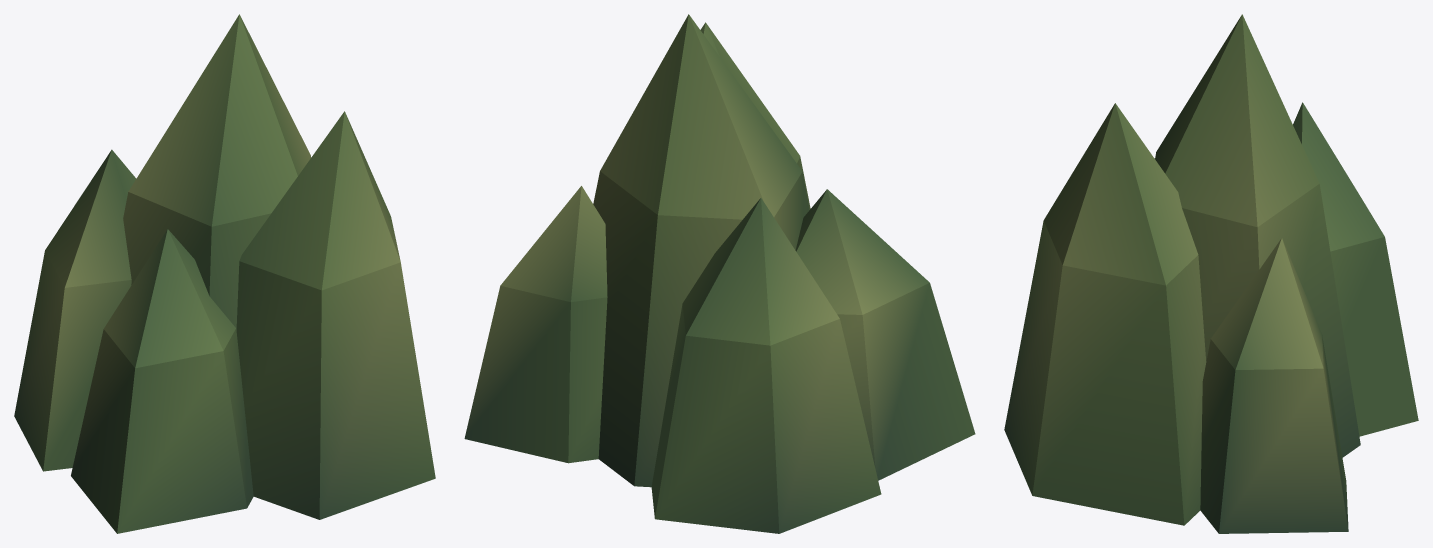
Rendered from ENV_Shrub_A_LOD0.glb.
3 renders of one model, left to right at view 1: azimuth 30°, elevation 25°; view 2: azimuth 150°, elevation 25°; view 3: azimuth 270°, elevation 25°, orthographic. The views are drawn at different scales.
Visible parts, largest first — view 1: ENV_Shrub_A_LOD0_shrub; view 2: ENV_Shrub_A_LOD0_shrub; view 3: ENV_Shrub_A_LOD0_shrub.
Part boxes in pixels (x1=…): ENV_Shrub_A_LOD0_shrub: x1=14, y1=14, x2=435, y2=533; ENV_Shrub_A_LOD0_shrub: x1=464, y1=14, x2=975, y2=533; ENV_Shrub_A_LOD0_shrub: x1=1004, y1=14, x2=1418, y2=533.
Size of the model in its own units: 0.9348 by 1 by 0.8671.
